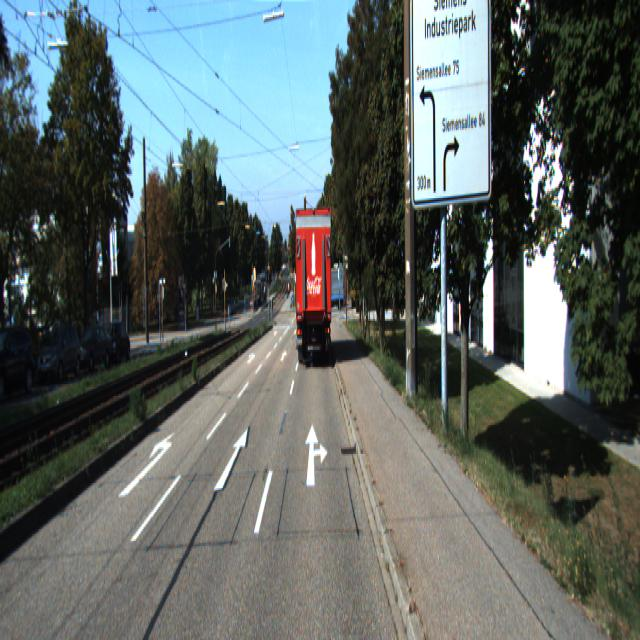Car: (293, 207, 334, 373), (37, 322, 83, 388), (0, 324, 37, 396), (75, 324, 114, 372), (101, 321, 131, 367)
